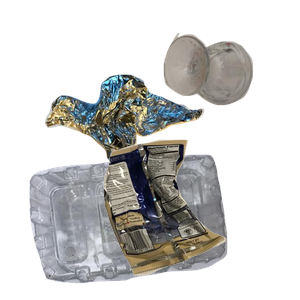glass: (161, 30, 300, 128)
metal: (42, 72, 239, 229)
plastic: (27, 152, 247, 300)
trash: (101, 137, 300, 300)
